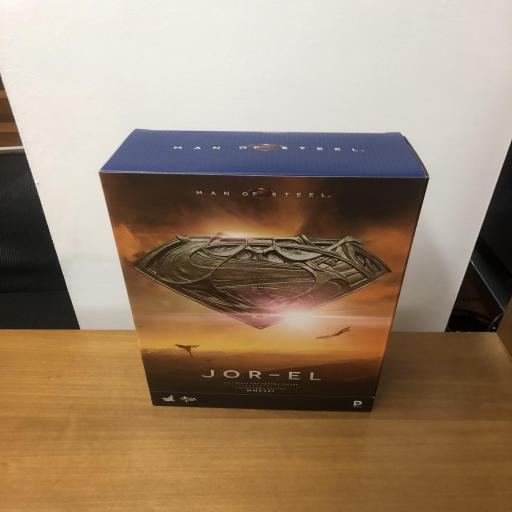superman: (103, 127, 424, 413)
